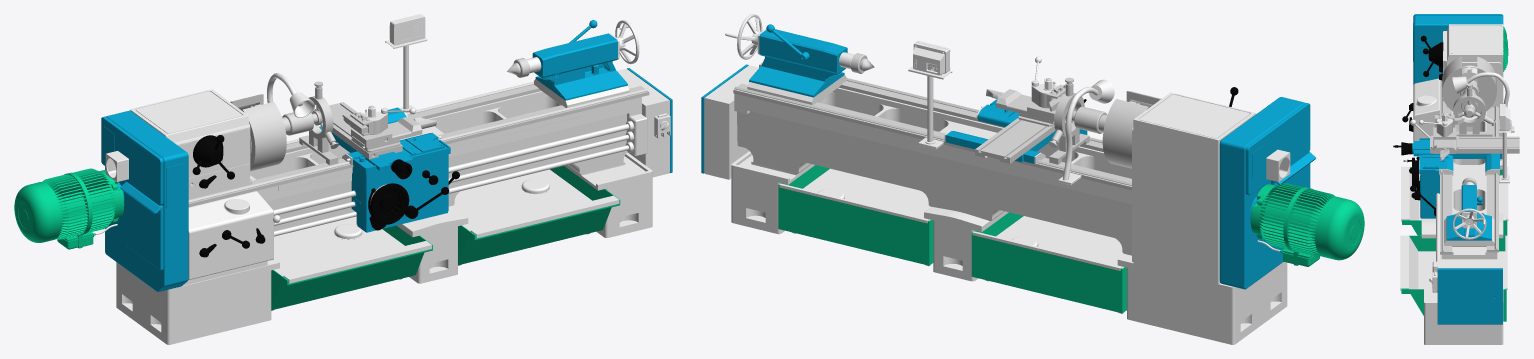
The model's file is lathe_machine.glb.
3 views of the same model, side by side, from view 1: azimuth 30°, elevation 25°; view 2: azimuth 150°, elevation 25°; view 3: azimuth 270°, elevation 25° (orthographic). The views are drawn at different scales.
Parts seen in each view (by area): view 1: .1_White_0, Body1 (×8), Body2 (×4), Body5, Brep With Voids, Body.2 (×4), Body4, Body3 (×2), Body7; view 2: .1_White_0, Body1 (×7), Body2 (×4), Body5, Body.2 (×4), Body4, Brep With Voids, Body3, Body7; view 3: .1_White_0, Body1 (×11), .2_Dark Blue_0, Body.2 (×5), Body2 (×4), Brep With Voids, Body4 (×2), Body3 (×2), Body7, Body5 (×2), CLOSED_SHELL #136028.
Part boxes in pixels (x1,y1,x2,y2): .1_White_0: [116, 68, 670, 344]; Body1 (×8): [101, 20, 649, 291]; Body2 (×4): [105, 102, 620, 310]; Body5: [14, 168, 124, 249]; Brep With Voids: [319, 107, 450, 232]; Body.2 (×4): [230, 73, 338, 171]; Body4: [532, 20, 627, 100]; Body3 (×2): [370, 14, 425, 224]; Body7: [351, 105, 417, 148]; .1_White_0: [704, 65, 1287, 344]; Body1 (×7): [725, 14, 1315, 289]; Body2 (×4): [778, 113, 1290, 313]; Body5: [1250, 183, 1364, 266]; Body.2 (×4): [1048, 77, 1161, 180]; Body4: [749, 24, 847, 97]; Brep With Voids: [945, 99, 1087, 163]; Body3: [913, 41, 950, 75]; Body7: [1001, 78, 1055, 121]; .1_White_0: [1413, 24, 1503, 344]; Body1 (×11): [1393, 14, 1508, 290]; .2_Dark Blue_0: [1437, 268, 1502, 324]; Body.2 (×5): [1442, 56, 1513, 136]; Body2 (×4): [1401, 135, 1519, 321]; Brep With Voids: [1412, 138, 1502, 218]; Body4 (×2): [1433, 145, 1491, 240]; Body3 (×2): [1403, 104, 1510, 187]; Body7: [1433, 112, 1456, 148]; Body5 (×2): [1436, 26, 1508, 126]; CLOSED_SHELL #136028: [1435, 112, 1454, 137].
Size of the model in its own units: 4.93 by 1.66 by 1.16.
